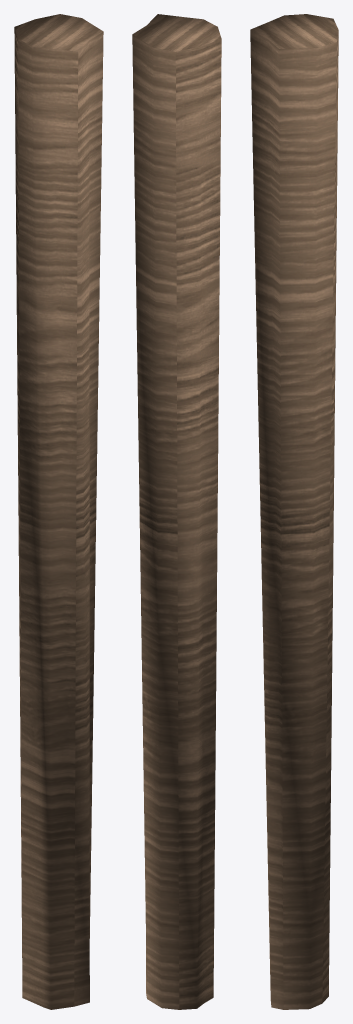
The model's file is wooden_club.glb.
3 views of the same model, side by side, from view 1: azimuth 30°, elevation 25°; view 2: azimuth 210°, elevation 25°; view 3: azimuth 270°, elevation 25° (orthographic).
Parts seen in each view (by area): view 1: wooden_club; view 2: wooden_club; view 3: wooden_club.
Part boxes in pixels (x1=…): wooden_club: x1=14, y1=14, x2=103, y2=1009; wooden_club: x1=132, y1=14, x2=221, y2=1009; wooden_club: x1=250, y1=14, x2=338, y2=1009.
Size of the model in its own units: 0.0389 by 0.5 by 0.0415.
1 material, 1 textured.
